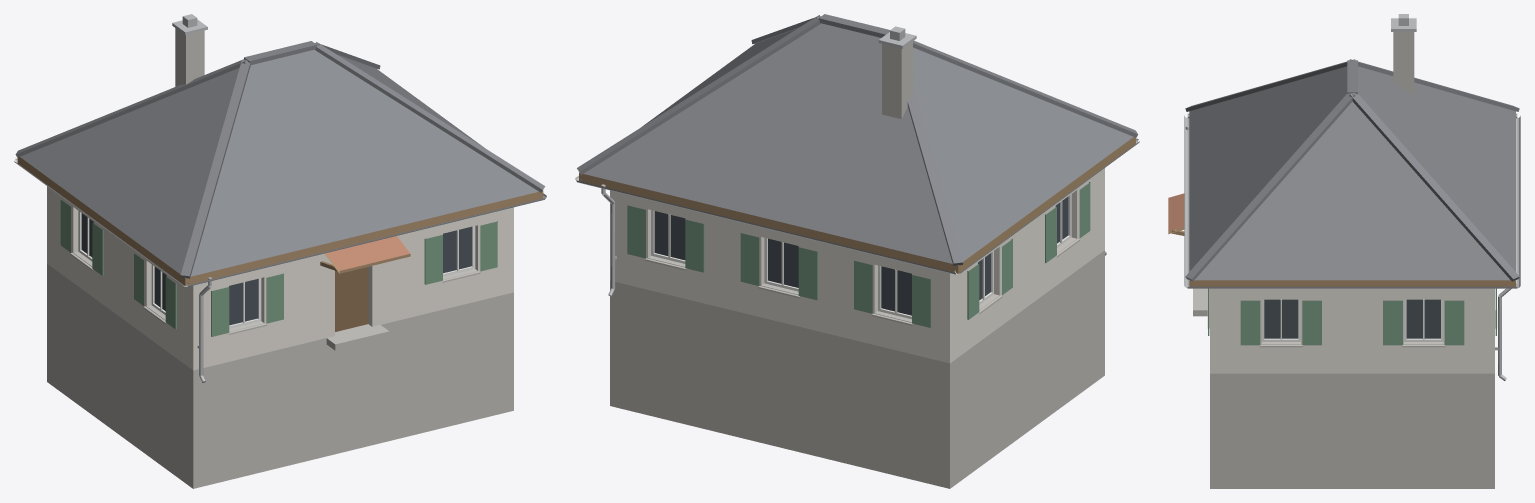
Rendered from french_house_1_s.glb.
The picture shows the model from 3 angles, left to right: view 1: azimuth 30°, elevation 25°; view 2: azimuth 150°, elevation 25°; view 3: azimuth 270°, elevation 25°; orthographic projection. The views are drawn at different scales.
Parts seen in each view (by area): view 1: french_house_1_s; view 2: french_house_1_s; view 3: french_house_1_s.
Boxes of the visible parts, x1=… form: french_house_1_s: x1=14, y1=14, x2=546, y2=488; french_house_1_s: x1=575, y1=14, x2=1139, y2=488; french_house_1_s: x1=1168, y1=14, x2=1520, y2=488.
Size of the model in its own units: 10.8 by 10.63 by 9.28.
